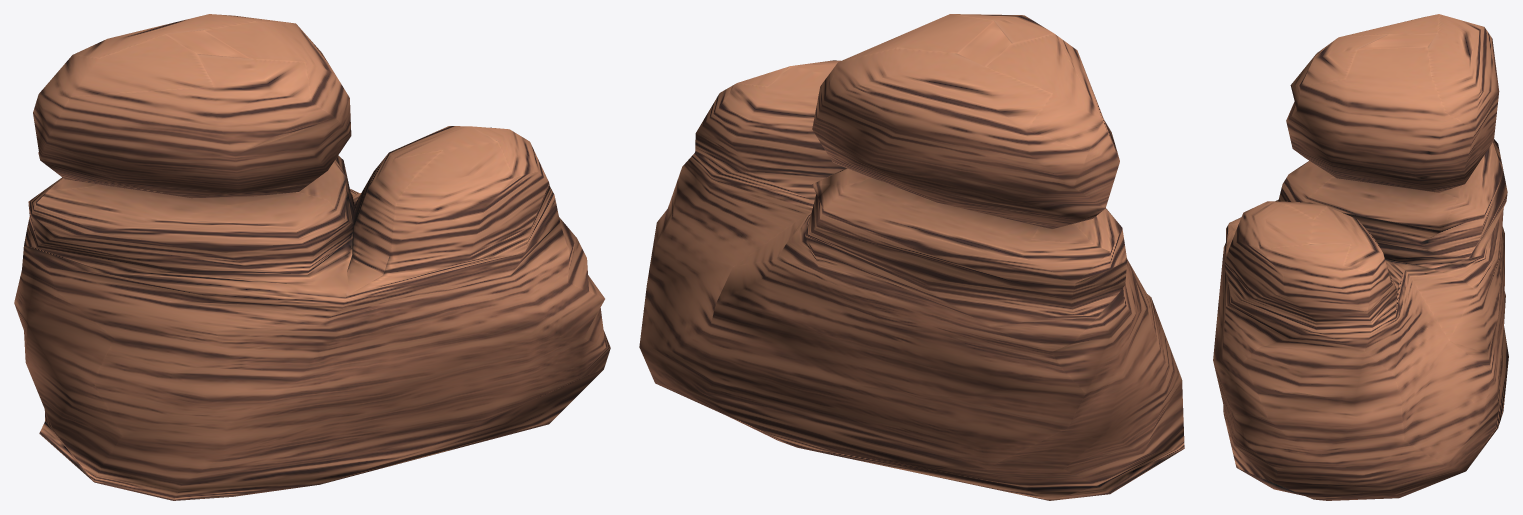
The model's file is Desert_rock_6.fbx.
The picture shows the model from 3 angles, left to right: view 1: azimuth 30°, elevation 25°; view 2: azimuth 150°, elevation 25°; view 3: azimuth 270°, elevation 25°; orthographic projection. The views are drawn at different scales.
Visible parts, largest first — view 1: Desert_rock_6; view 2: Desert_rock_6; view 3: Desert_rock_6.
Boxes of the visible parts, x1,y1,x2,y2 form: Desert_rock_6: (14, 14, 610, 500); Desert_rock_6: (639, 14, 1184, 500); Desert_rock_6: (1213, 14, 1508, 500).
Bounding box in the file's own units: 4.34 × 3.13 × 2.59.
1 material, 1 textured.
